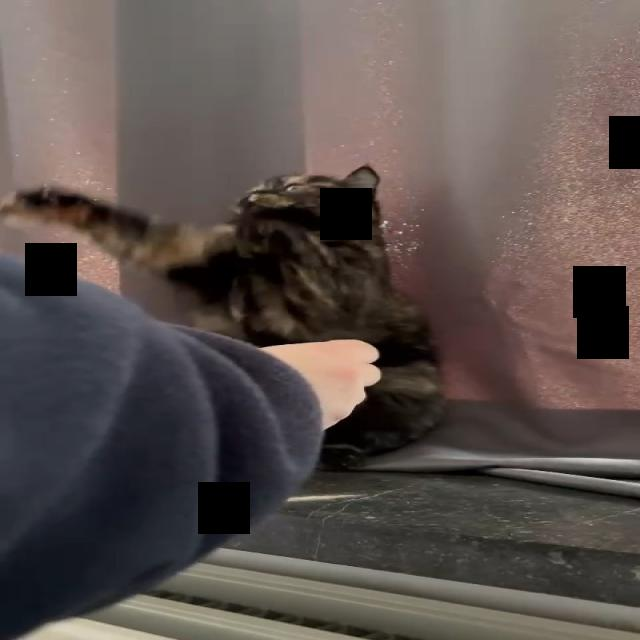authorized: (1, 163, 448, 470)
